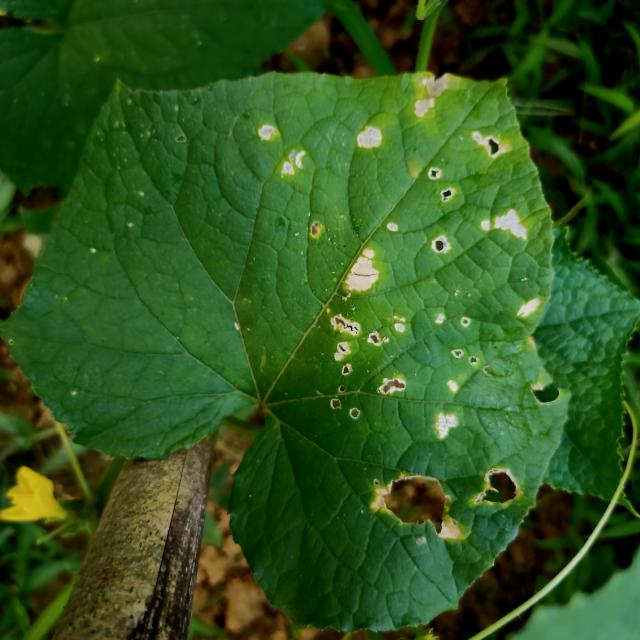disease_cucumber: (315, 305, 410, 424), (362, 468, 468, 543), (254, 120, 306, 178), (471, 461, 523, 507), (339, 241, 380, 297), (480, 206, 529, 243), (414, 75, 446, 119), (431, 406, 463, 443), (422, 165, 454, 202), (471, 129, 507, 160), (513, 290, 544, 323), (356, 123, 382, 150), (428, 235, 449, 254)
